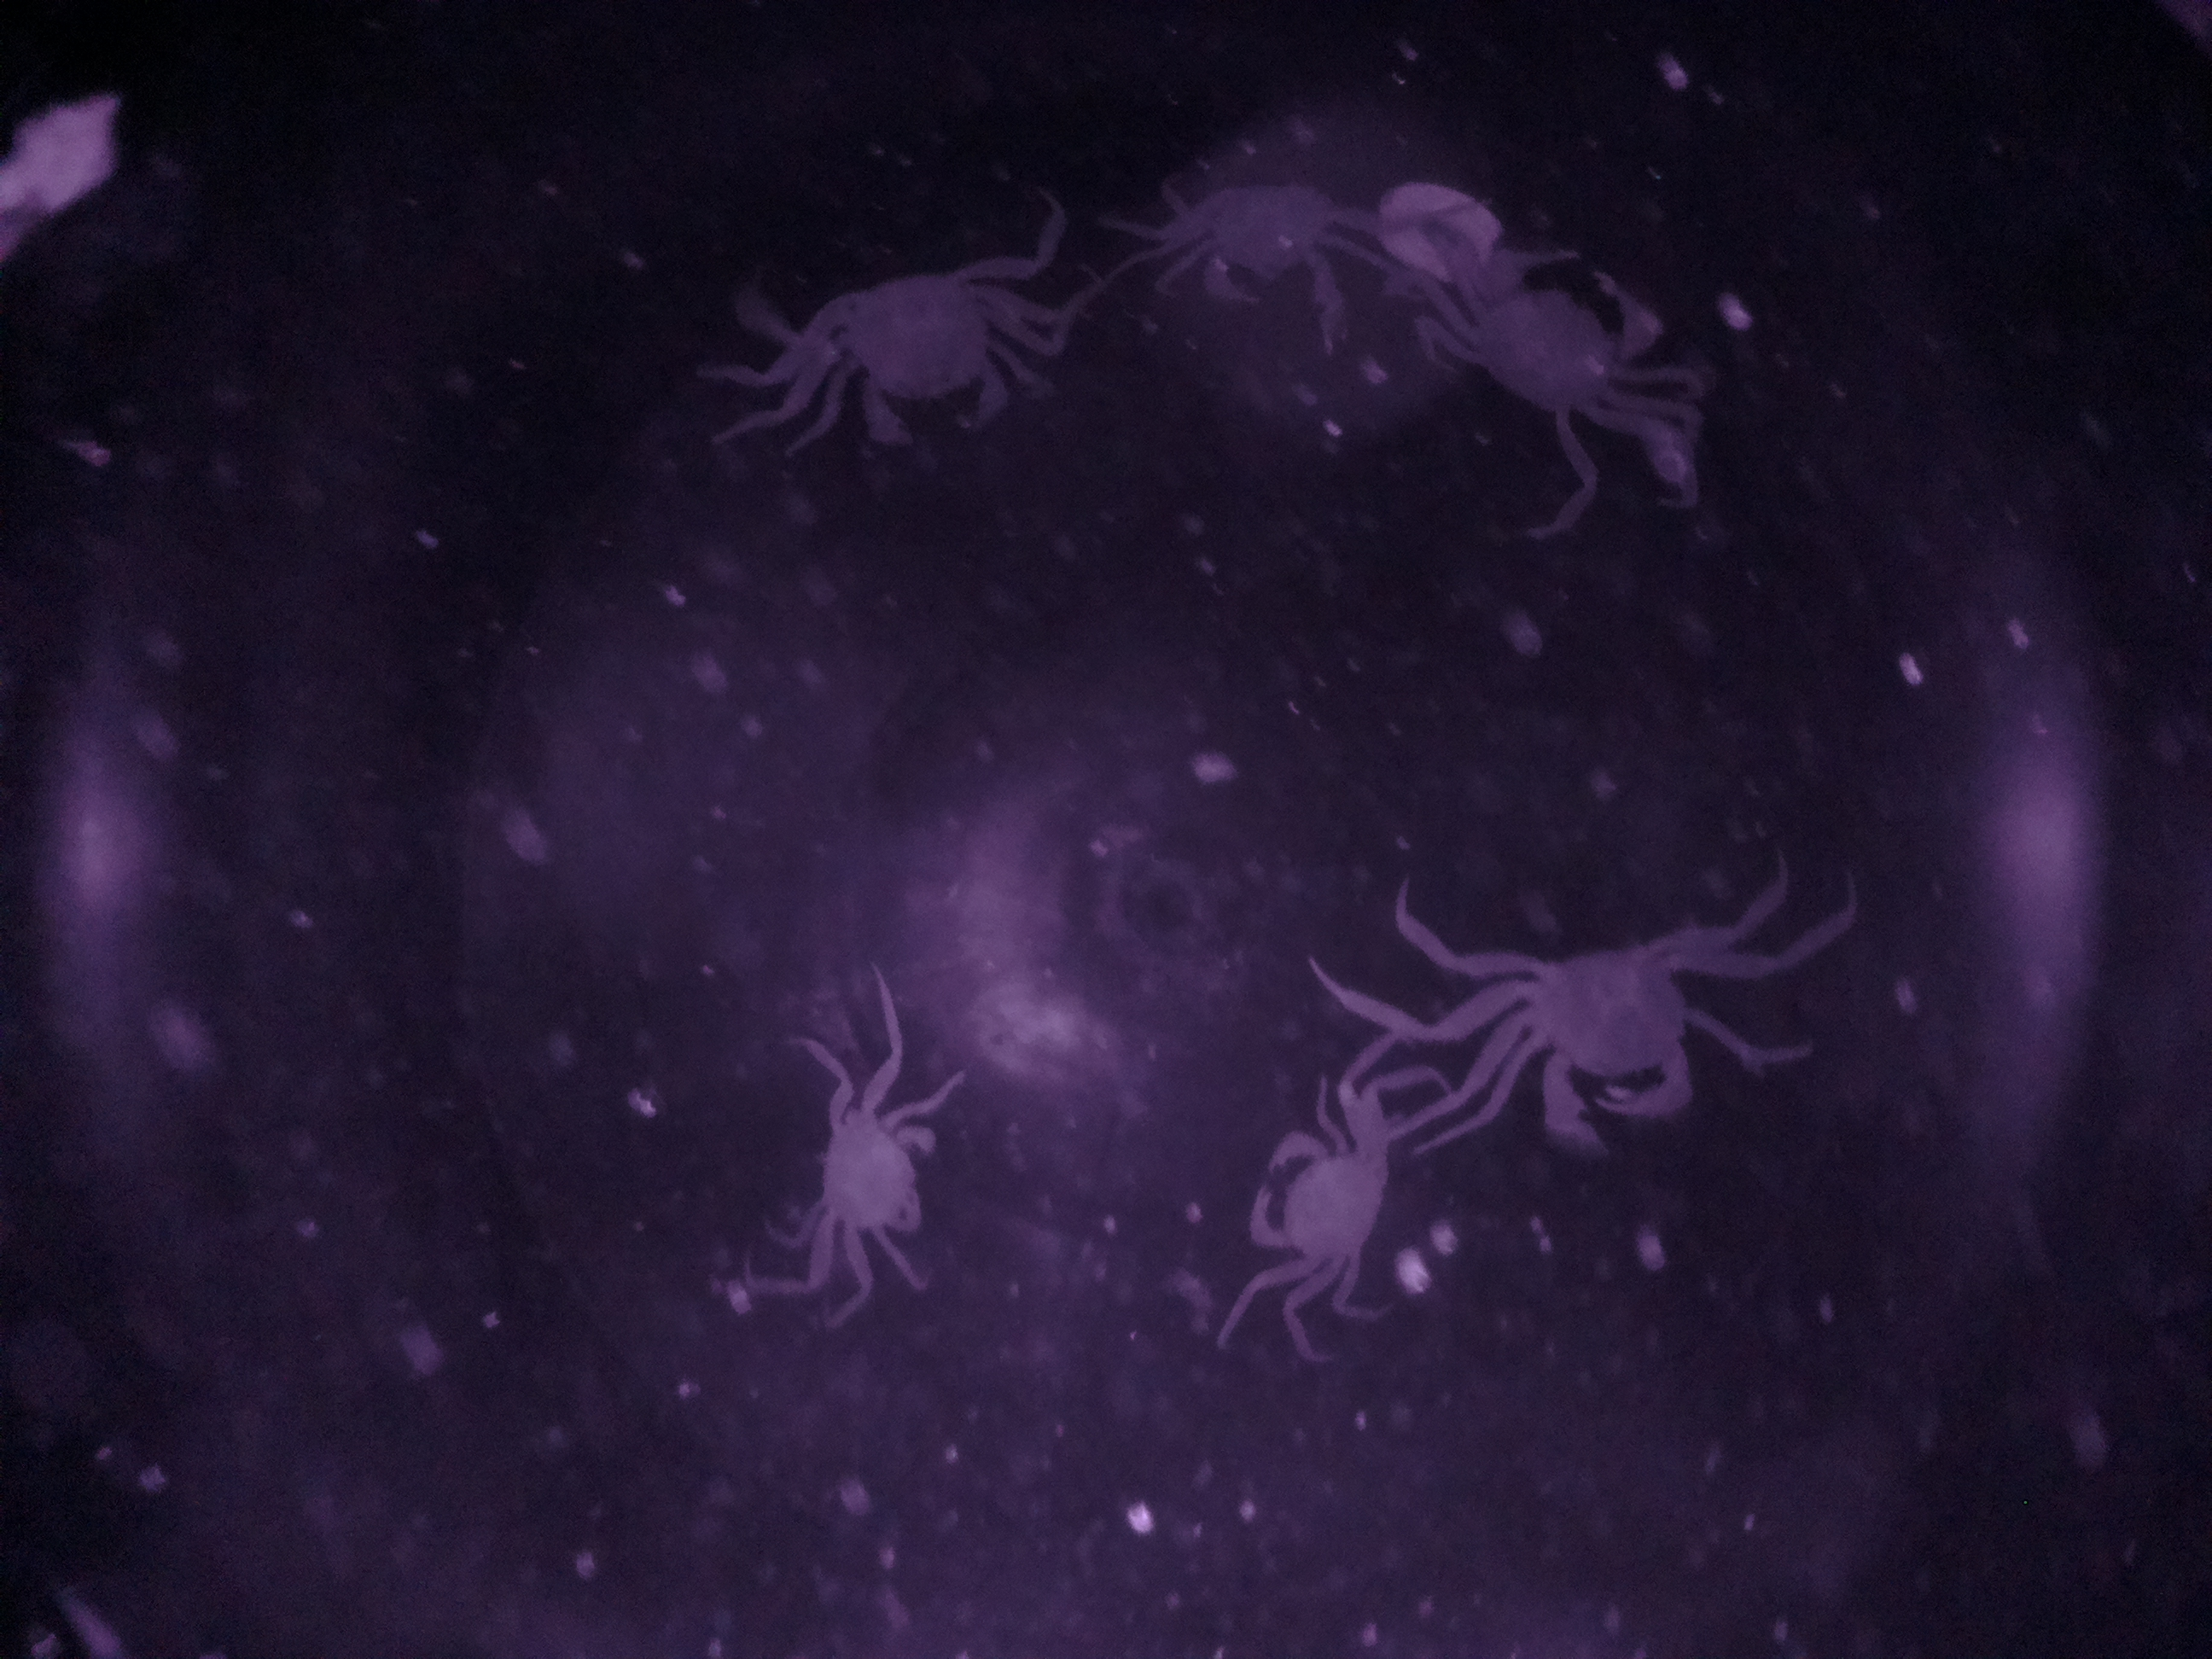Crab: (1474, 915, 1752, 1164), (1432, 228, 1707, 472), (801, 239, 1057, 464), (1237, 1094, 1435, 1305), (792, 1063, 968, 1284)
